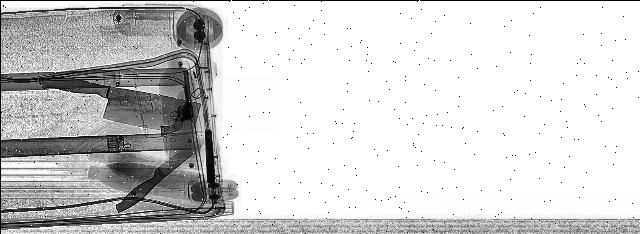Knife: (2, 74, 236, 134), (106, 135, 214, 212)
